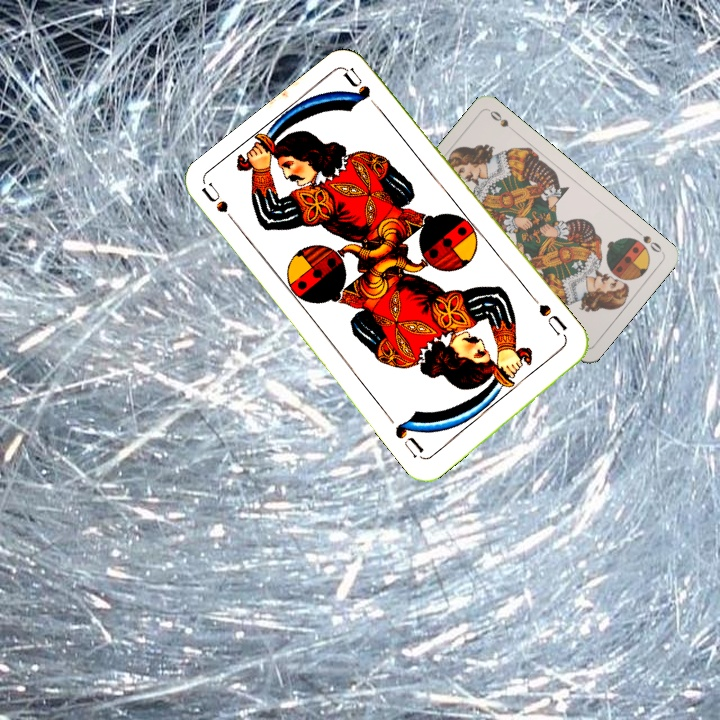SO: (632, 226, 666, 256)
SU: (198, 180, 244, 233), (534, 300, 570, 344)
